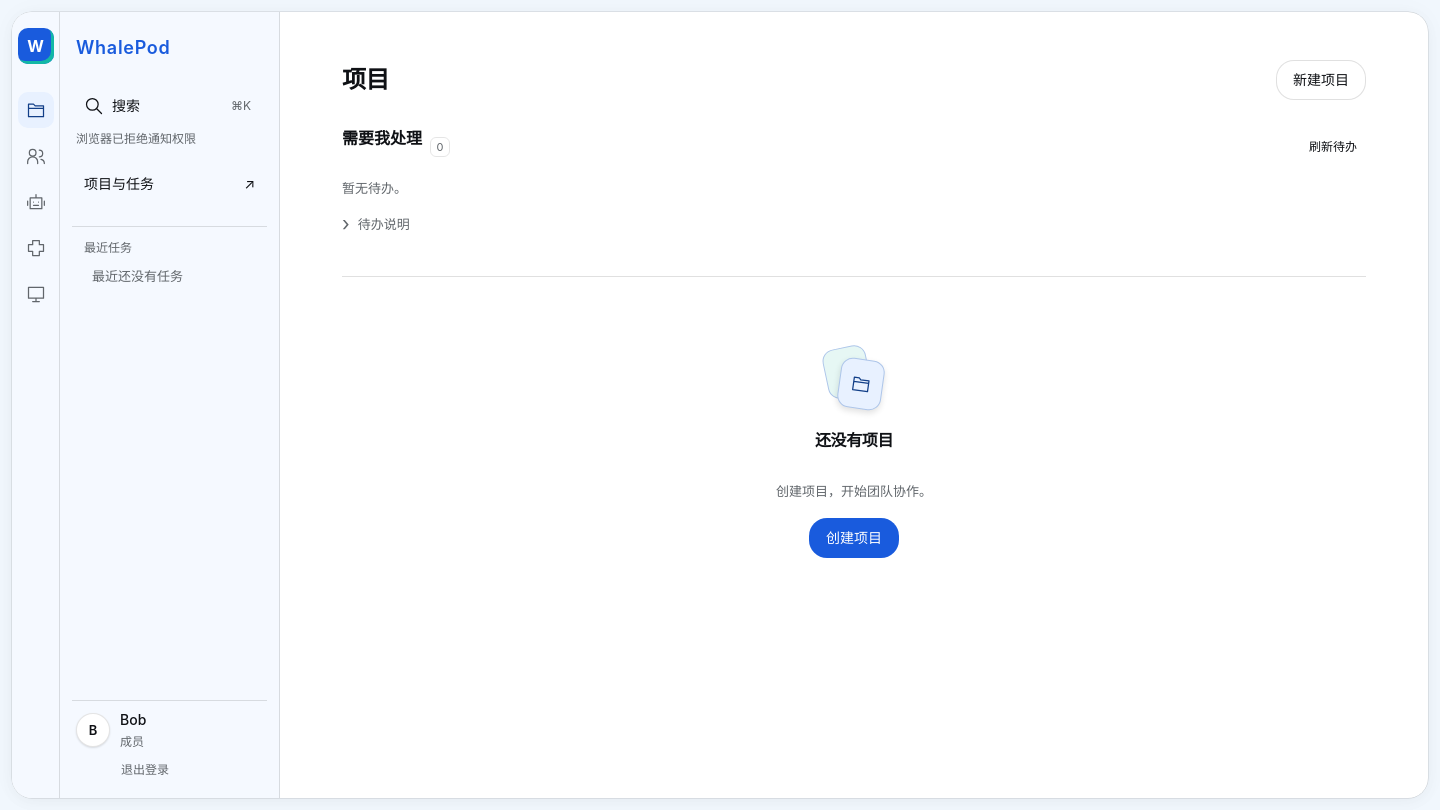
⌘K 全局搜索（#254） › ⌘K 呼出浮层；输入即查；结果直达任务房
This screenshot has width=1440, height=810.
Expected: the navigation bar named "主导航" is shown, [12, 12, 60, 798]
Type keys "{Meta>}k"
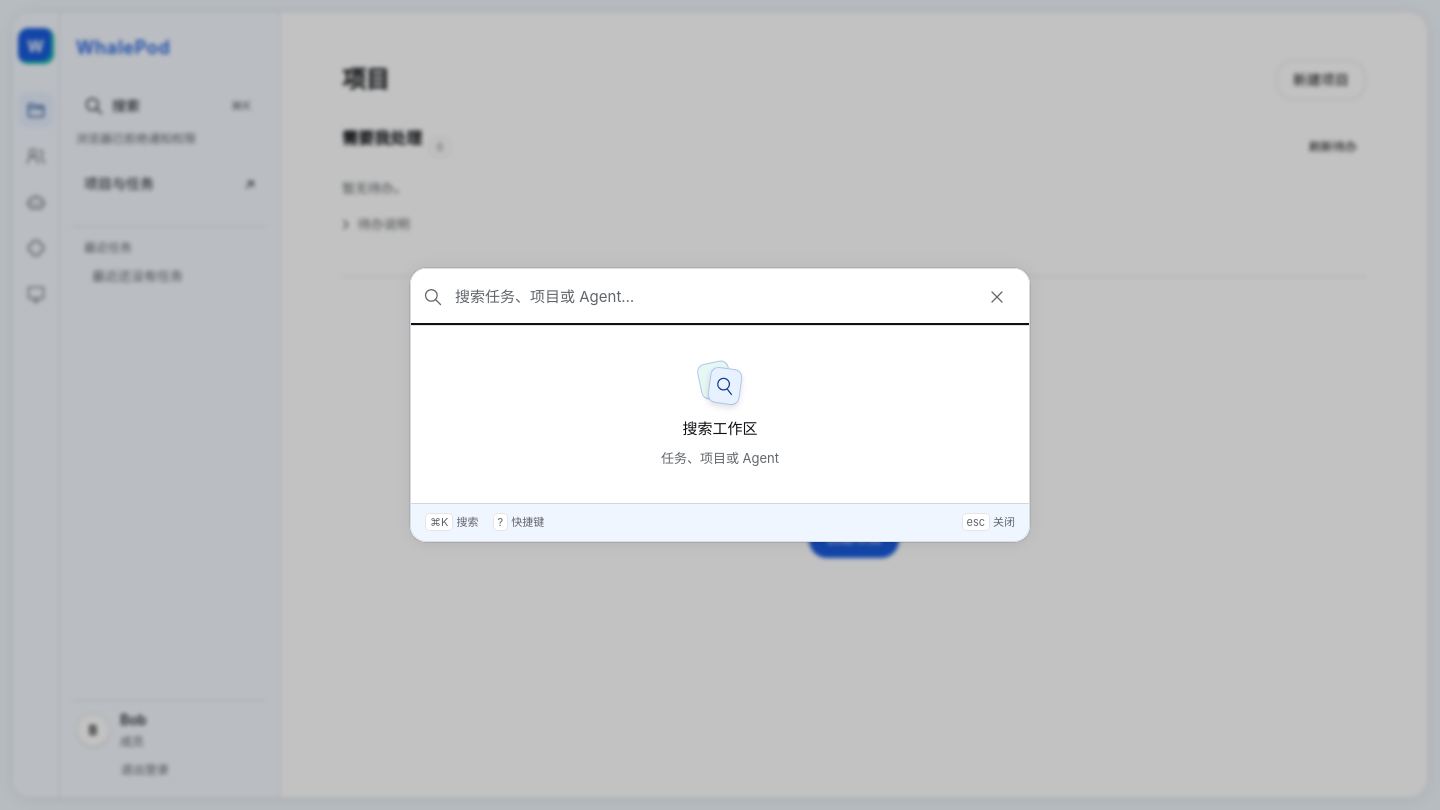
In the field named "搜索关键词": (710, 297) [455, 277, 965, 317], type "登录"
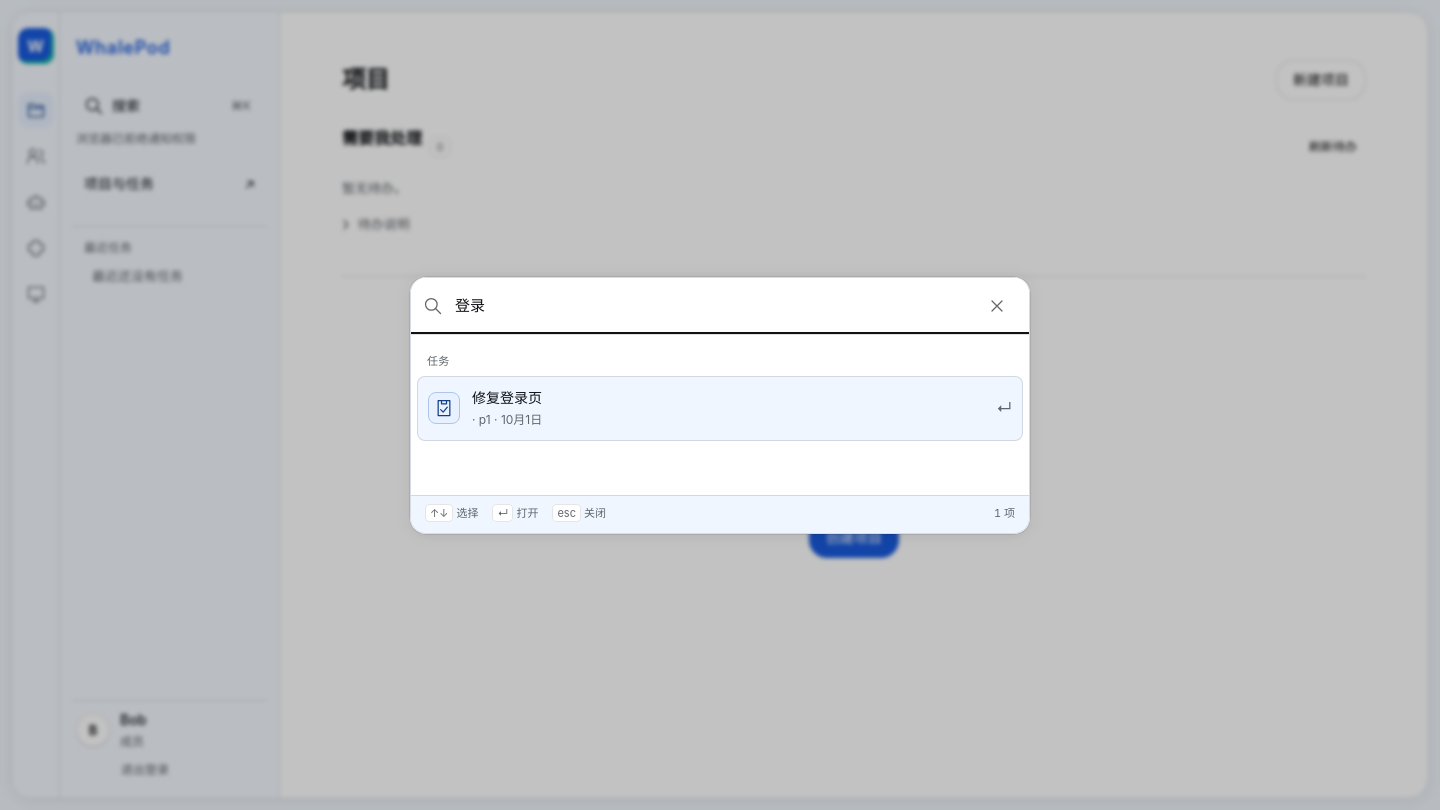
Click the option "修复登录页 · p1 · 10月1日 ↵": (444, 408) [417, 376, 1023, 441]
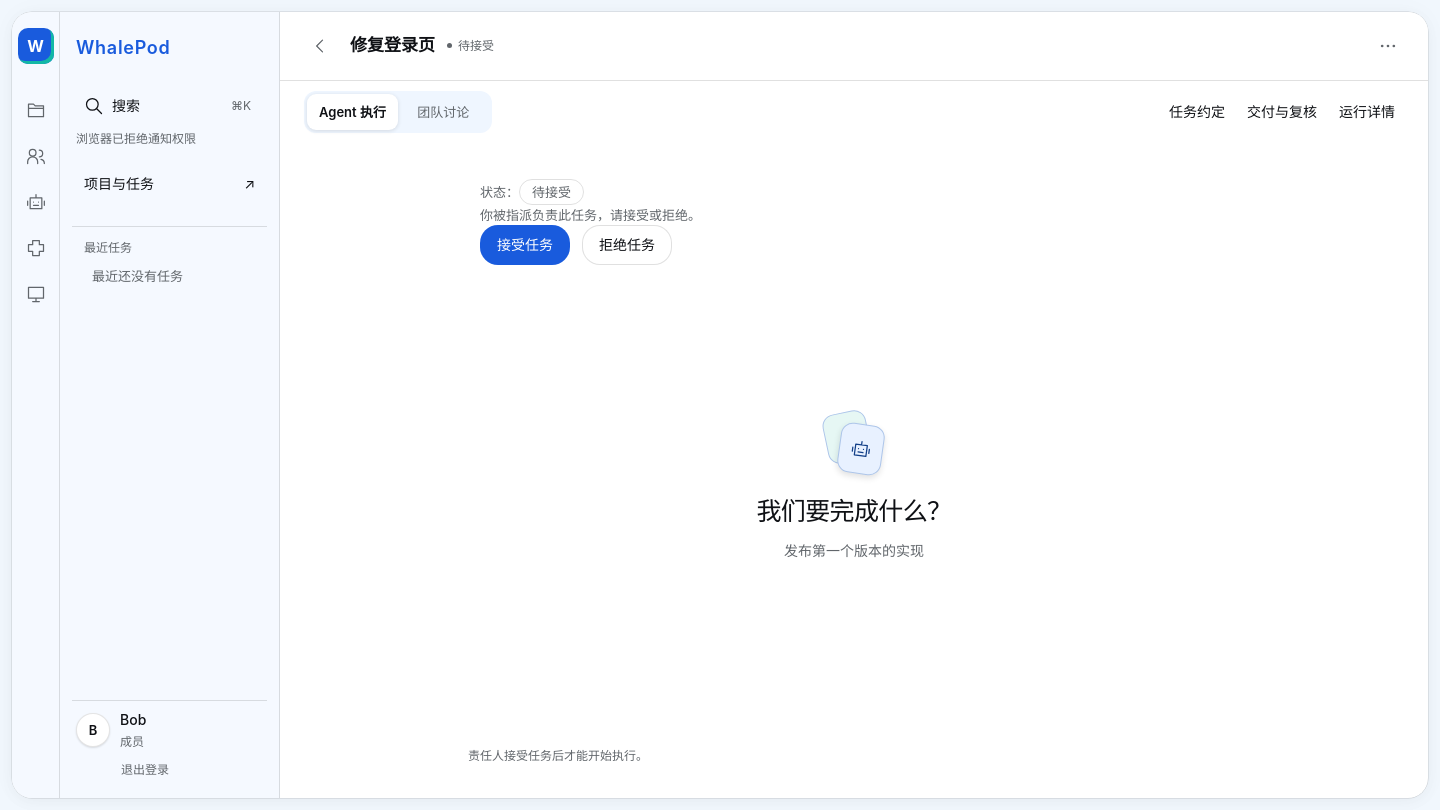
Result: the heading "修复登录页" is shown at [350, 34, 435, 58]
